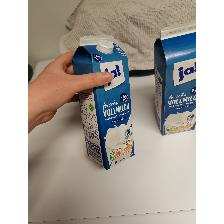Milch: (72, 33, 136, 170), (152, 18, 196, 136)
